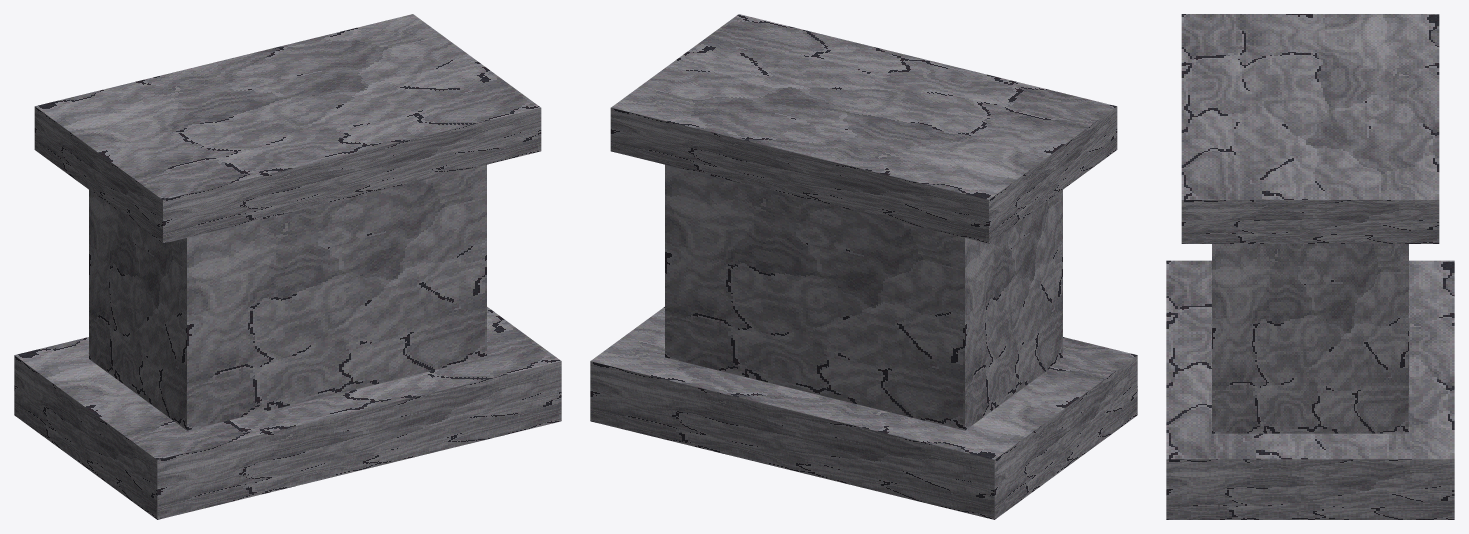
Rendered from catacumba_altar.glb.
3 renders of one model, left to right at view 1: azimuth 30°, elevation 25°; view 2: azimuth 150°, elevation 25°; view 3: azimuth 270°, elevation 25°, orthographic.
Visible parts, largest first — view 1: catacumba_altar; view 2: catacumba_altar; view 3: catacumba_altar.
Boxes of the visible parts, x1,y1,x2,y2 form: catacumba_altar: (14,14,561,519); catacumba_altar: (590,14,1137,519); catacumba_altar: (1166,14,1454,519).
Bounding box in the file's own units: 1.55 × 1.14 × 0.95.
Materials: 1 (1 with a texture image).
